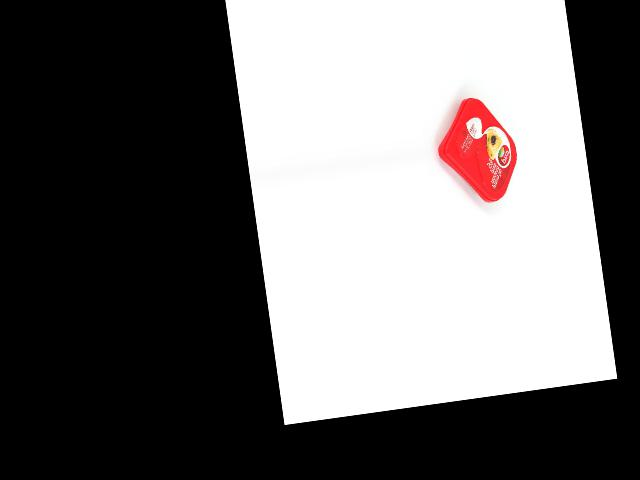cheese: (431, 92, 523, 208)
